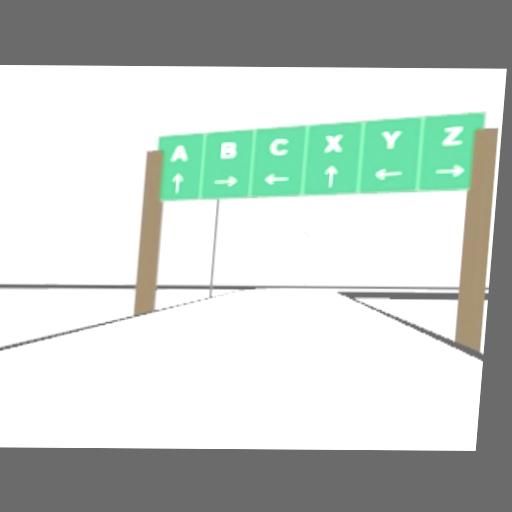A: (169, 141, 192, 164)
B: (218, 140, 238, 158)
C: (267, 137, 291, 157)
Left: (371, 168, 405, 182), (262, 173, 291, 188)
Right: (433, 163, 467, 180), (211, 175, 240, 188)
Straight: (321, 164, 340, 189), (170, 172, 184, 193)
X: (323, 133, 344, 154)
Y: (380, 129, 402, 149)
Z: (441, 125, 464, 146)
